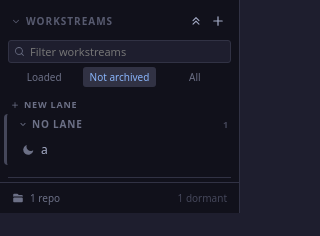
it: creating a lane › abandons the new lane on Escape
Click the button with test id "ws-add-lane" at [120, 104], box [4,95,235,114]
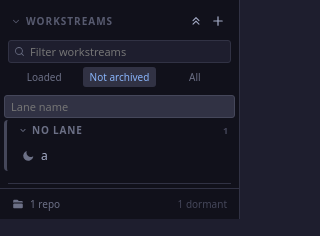
Press Escape in the field with test id "ws-new-lane-input", box [4,95,235,118]
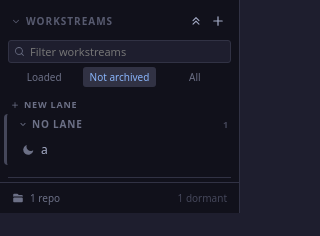
Result: the field with test id "ws-new-lane-input" is gone
